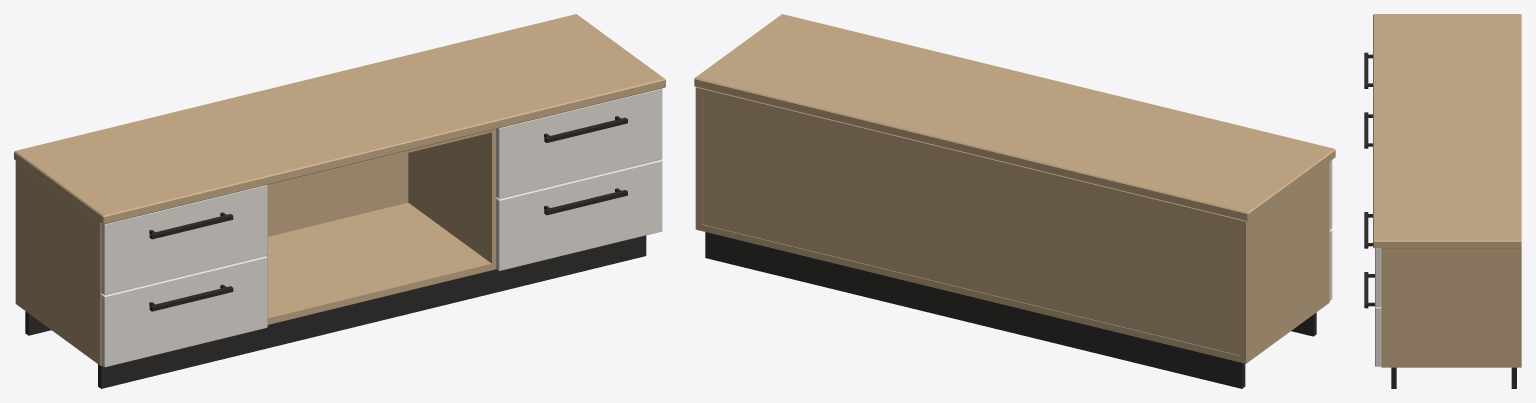
File: 30_szafka_rtv_160.glb
3 views of the same model, side by side, from view 1: azimuth 30°, elevation 25°; view 2: azimuth 150°, elevation 25°; view 3: azimuth 270°, elevation 25° (orthographic). The views are drawn at different scales.
Visible parts, largest first — view 1: Wierzch, Korpus, Cokol, Front_szuflada_2, Front_szuflada_5, Front_szuflada_1, Front_szuflada_4, Uchwyty; view 2: Korpus, Wierzch, Cokol; view 3: Wierzch, Korpus, Uchwyty, Front_szuflada_5, Front_szuflada_4, Cokol.
Boxes of the visible parts, x1,y1,x2,y2 form: Wierzch: (14, 14, 665, 224); Korpus: (15, 129, 496, 365); Cokol: (25, 235, 646, 388); Front_szuflada_2: (101, 256, 267, 367); Front_szuflada_5: (496, 159, 662, 270); Front_szuflada_1: (101, 185, 267, 294); Front_szuflada_4: (496, 88, 662, 198); Uchwyty: (149, 116, 627, 311); Korpus: (695, 87, 1329, 363); Wierzch: (694, 14, 1335, 221); Cokol: (705, 232, 1316, 388); Wierzch: (1373, 14, 1521, 248); Korpus: (1381, 247, 1521, 367); Uchwyty: (1364, 52, 1374, 308); Front_szuflada_5: (1375, 306, 1381, 366); Front_szuflada_4: (1375, 248, 1381, 306); Cokol: (1391, 367, 1516, 388).
Size of the model in its own units: 1.61 by 0.5 by 0.47.
